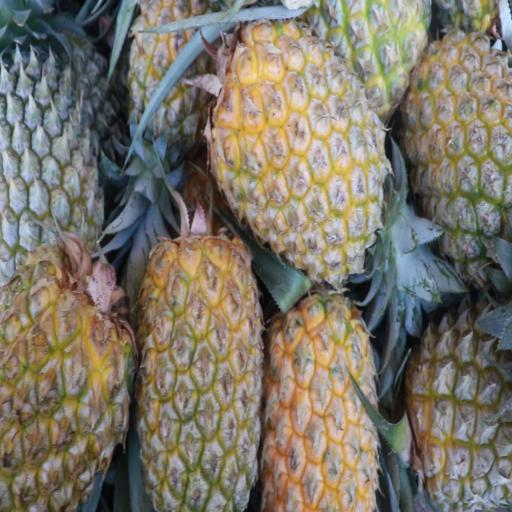------------------------------: (407, 27, 512, 265), (404, 305, 512, 507), (125, 0, 218, 149)
Pineapple - v8 v1: (212, 14, 376, 275), (0, 248, 138, 512), (140, 234, 258, 507), (266, 293, 372, 512), (324, 0, 424, 115)
